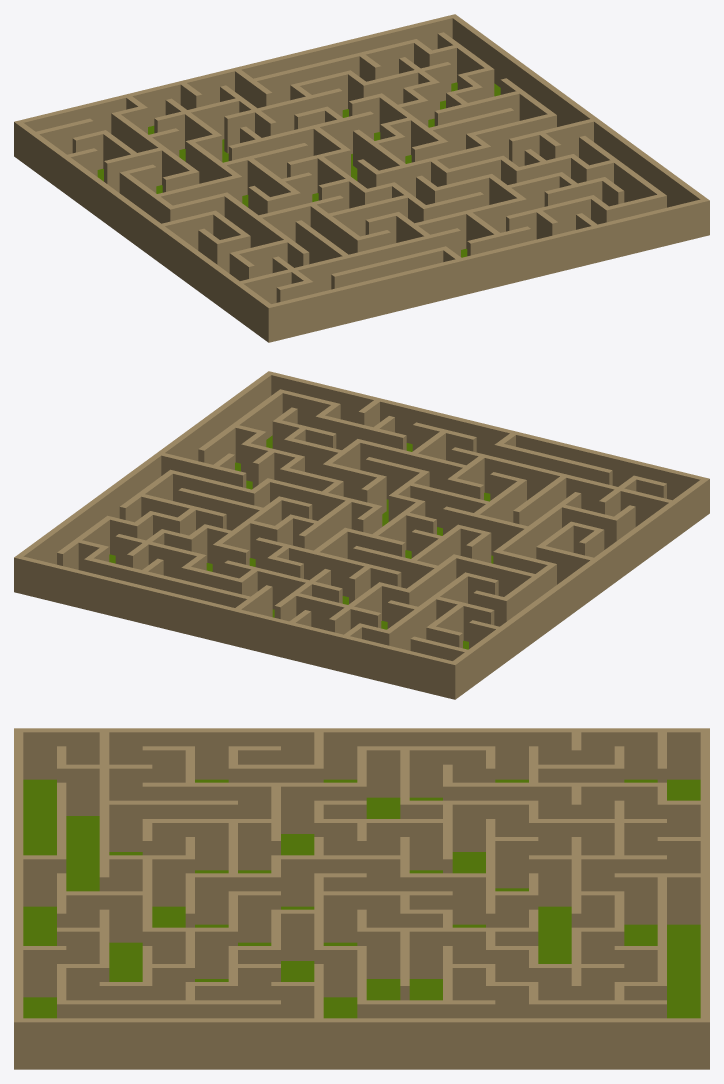
File: Level48Graund.FBX
The picture shows the model from 3 angles, top to bottom: view 1: azimuth 30°, elevation 25°; view 2: azimuth 150°, elevation 25°; view 3: azimuth 270°, elevation 25°; orthographic projection. The views are drawn at different scales.
Visible parts, largest first — view 1: Labyrinth003; view 2: Labyrinth003; view 3: Labyrinth003.
Part boxes in pixels (bbox=[...]): Labyrinth003: bbox=[14, 14, 709, 342]; Labyrinth003: bbox=[14, 371, 709, 699]; Labyrinth003: bbox=[14, 728, 709, 1069].
Size of the model in its own units: 373 by 28 by 373.
